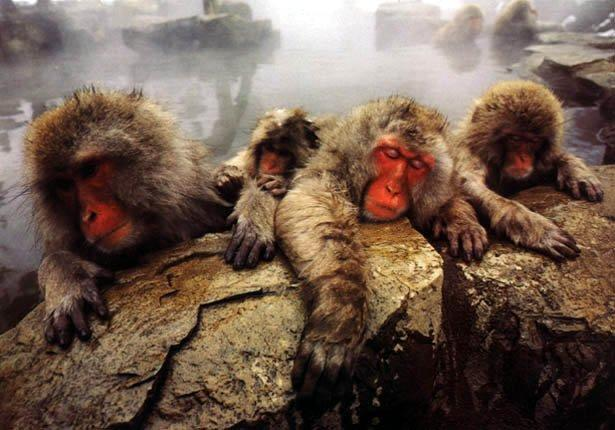monkey: (225, 85, 600, 342)
